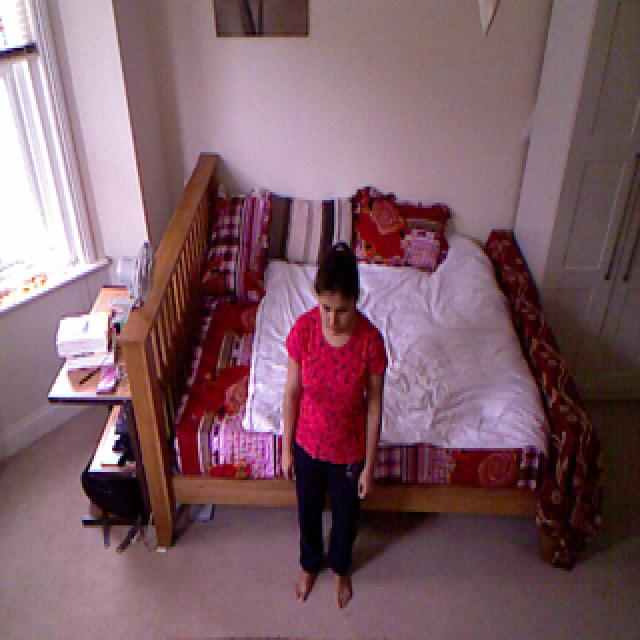standing: (282, 231, 386, 608)
